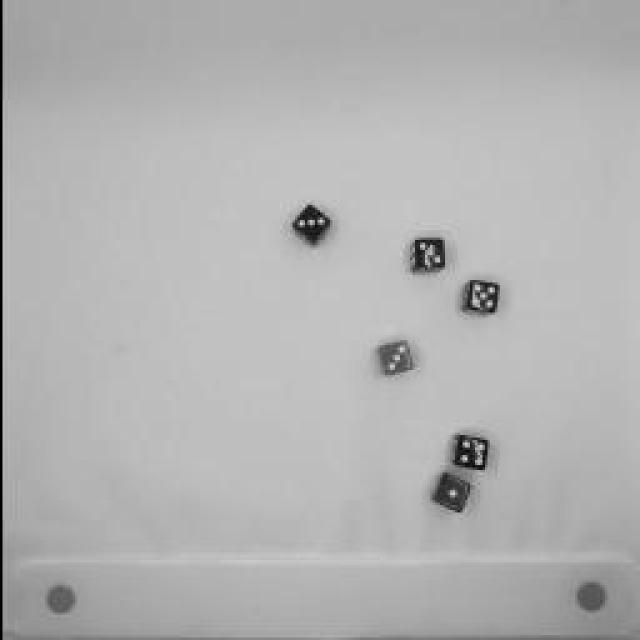dice_1: (426, 468, 474, 520)
dice_3: (282, 195, 338, 253), (396, 232, 449, 282), (369, 332, 421, 382)
dice_4: (445, 430, 490, 475)
dice_5: (455, 274, 505, 321)
